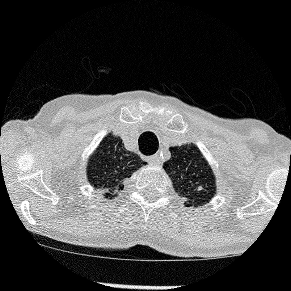nodule: (196, 186, 202, 192)
